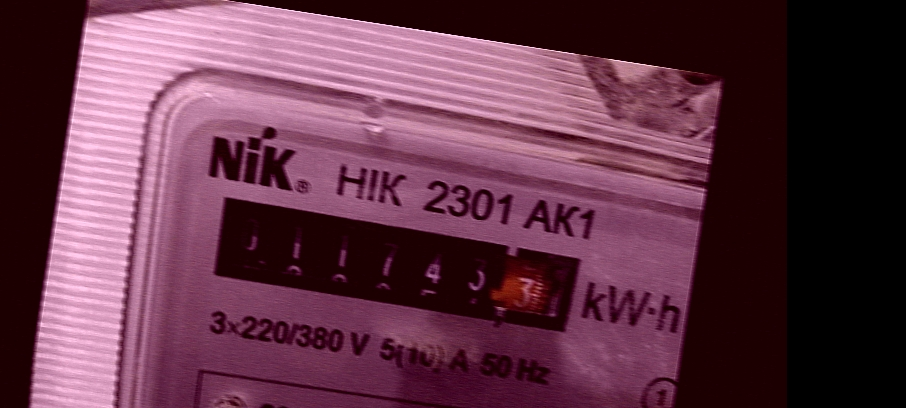0: (235, 210, 263, 252), (284, 216, 308, 260)
1: (330, 224, 352, 267)
3: (463, 248, 489, 293), (509, 268, 535, 309)
4: (419, 241, 445, 284)
7: (373, 231, 402, 278)
screen: (190, 177, 590, 342)
